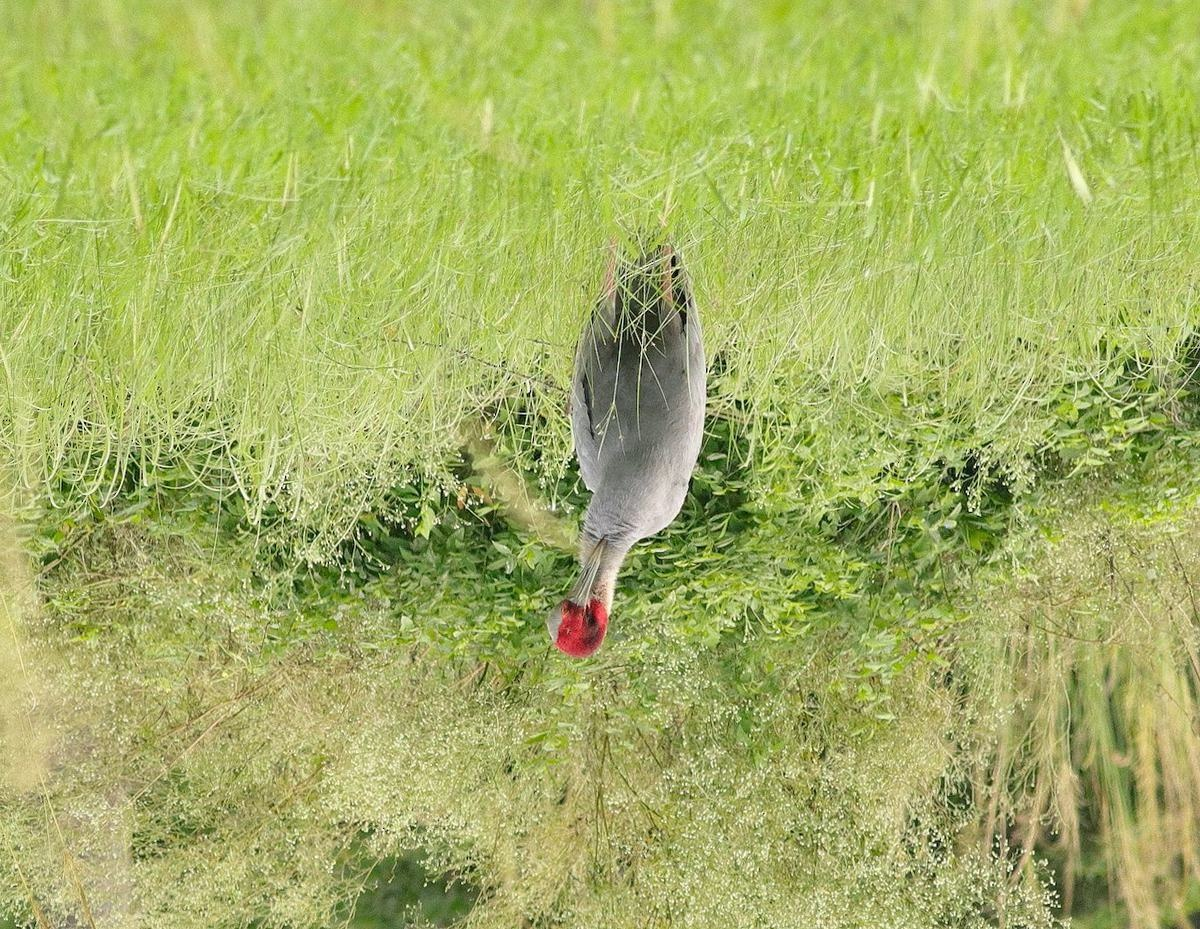crane: (539, 161, 728, 661)
